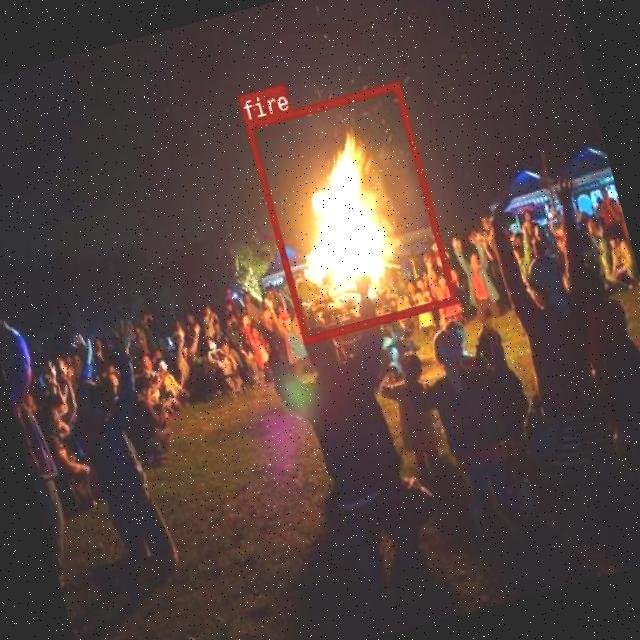fire: (243, 80, 456, 342)
